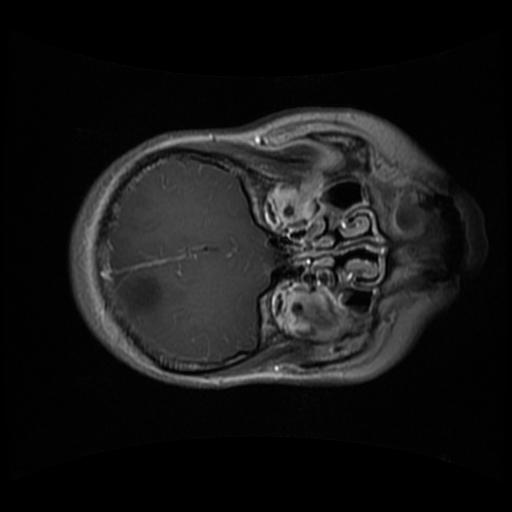glioma: (111, 271, 165, 318)
